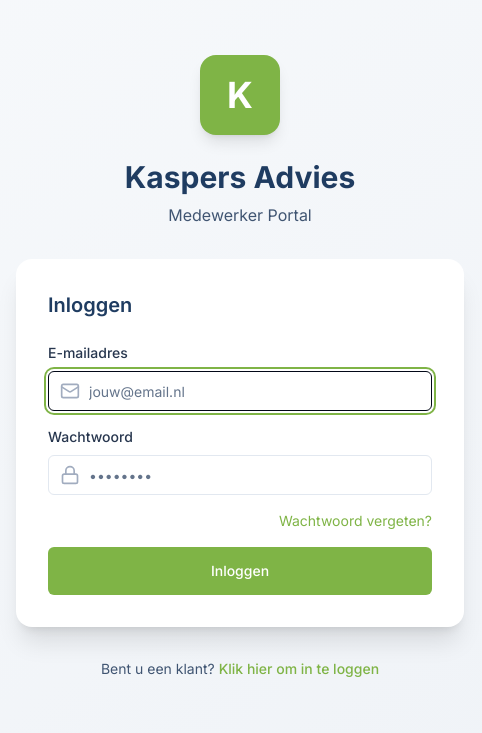
LoginPage › error handling › clears error message on new submission
# First failed attempt
In the field with placeholder "jouw@email.nl": coordinates (240, 391) 48,371 -> 432,411, type "test@example.com"
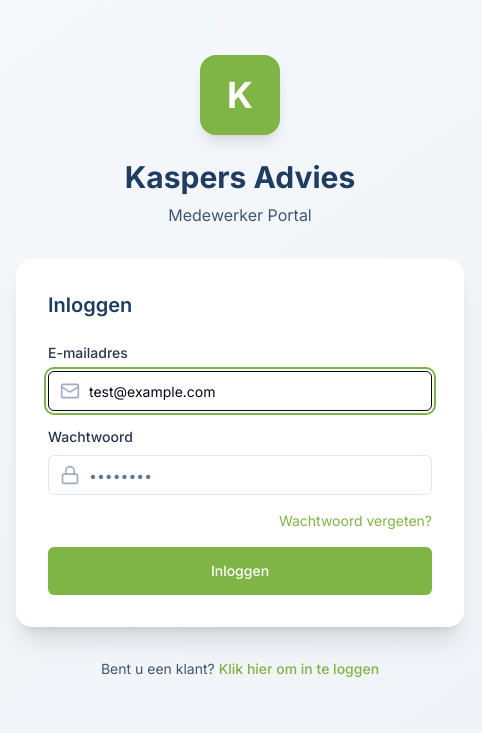
In the password field with placeholder "••••••••": coordinates (240, 475) 48,455 -> 432,495, type "password"
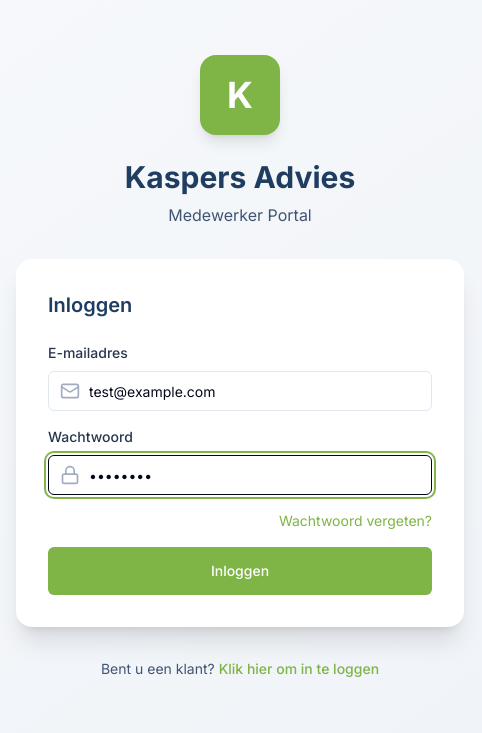
Click the button "Inloggen": coordinates (240, 571) 48,547 -> 432,595
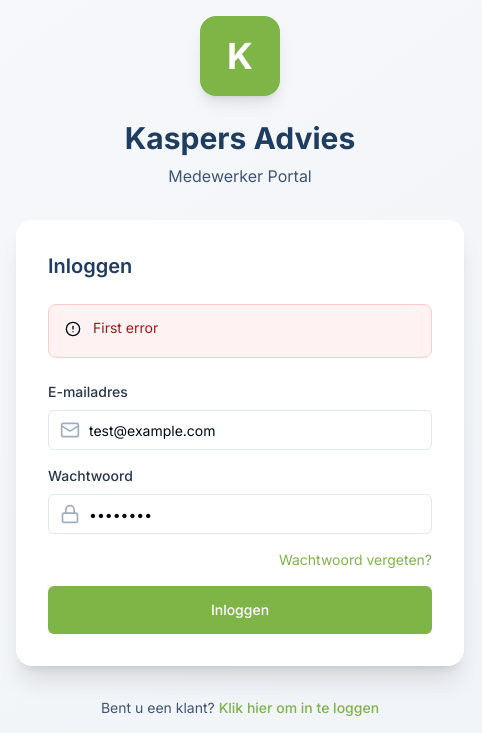
Result: the text "First error" is shown at 93,319 -> 158,336
# Second attempt - error should clear
Click the button "Inloggen": coordinates (240, 610) 48,586 -> 432,634
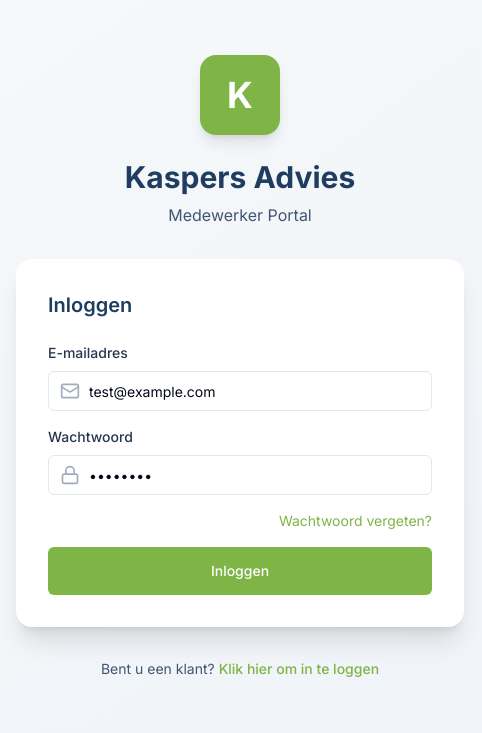
Result: the text "First error" is gone
